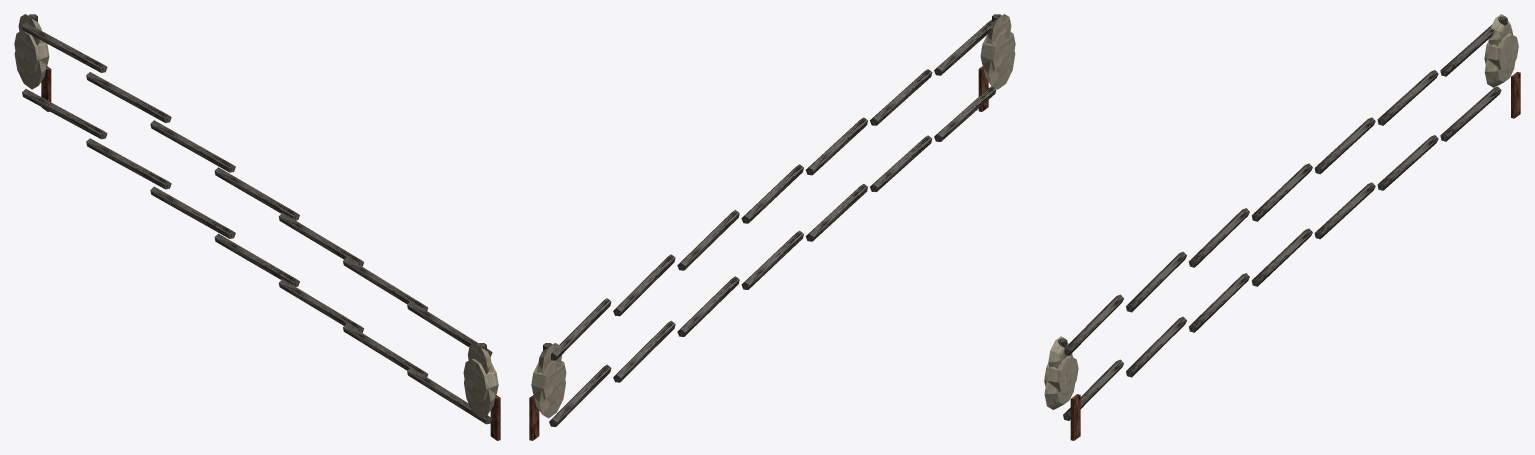
The model's file is wire_run_static.glb.
3 views of the same model, side by side, from view 1: azimuth 30°, elevation 25°; view 2: azimuth 150°, elevation 25°; view 3: azimuth 330°, elevation 25° (orthographic). The views are drawn at different scales.
Visible parts, largest first — view 1: wire_run_static; view 2: wire_run_static; view 3: wire_run_static.
Part boxes in pixels (left/top/right/bottom): wire_run_static: left=14, top=14, right=500, bottom=440; wire_run_static: left=529, top=14, right=1015, bottom=440; wire_run_static: left=1044, top=14, right=1520, bottom=440.
Bounding box in the file's own units: 0.0437 × 0.1615 × 1.43.
3 materials, 3 textured.
